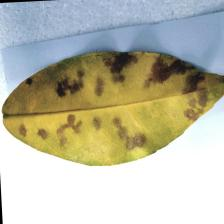black spot: (26, 54, 211, 148)
